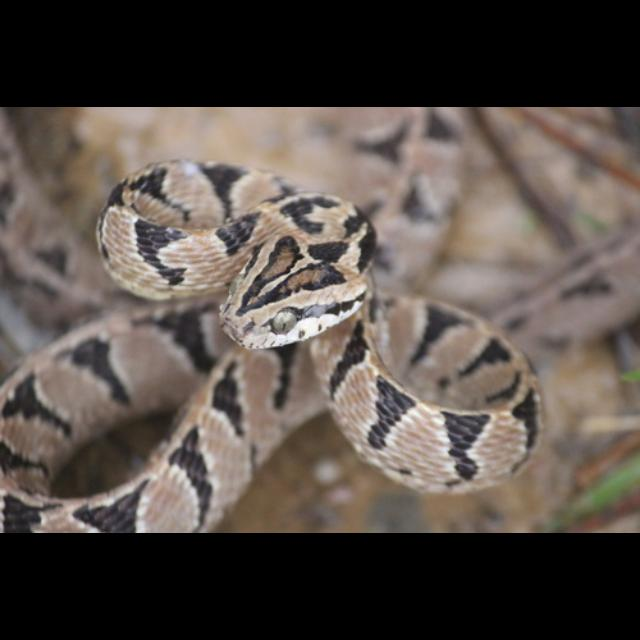snake: (0, 144, 522, 534)
